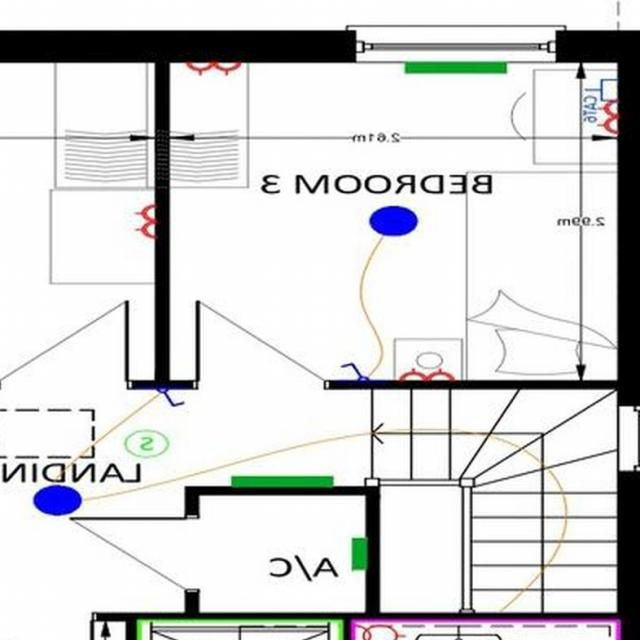Cat 6 Data Socket: (584, 78, 620, 124)
Double Socket: (187, 61, 243, 77), (597, 100, 619, 136), (135, 202, 156, 238), (401, 366, 454, 380)
Full Height Tiling: (138, 619, 344, 640)
Light Switch: (157, 388, 185, 406), (340, 362, 369, 379)
Low Energy Pendant Light: (371, 204, 420, 236), (34, 487, 83, 515)
Mains Wired Smoke Detector: (126, 428, 170, 456)
Radiator: (232, 475, 334, 487), (406, 62, 508, 72), (352, 537, 369, 571)
Shaver Socket: (357, 624, 409, 640)
